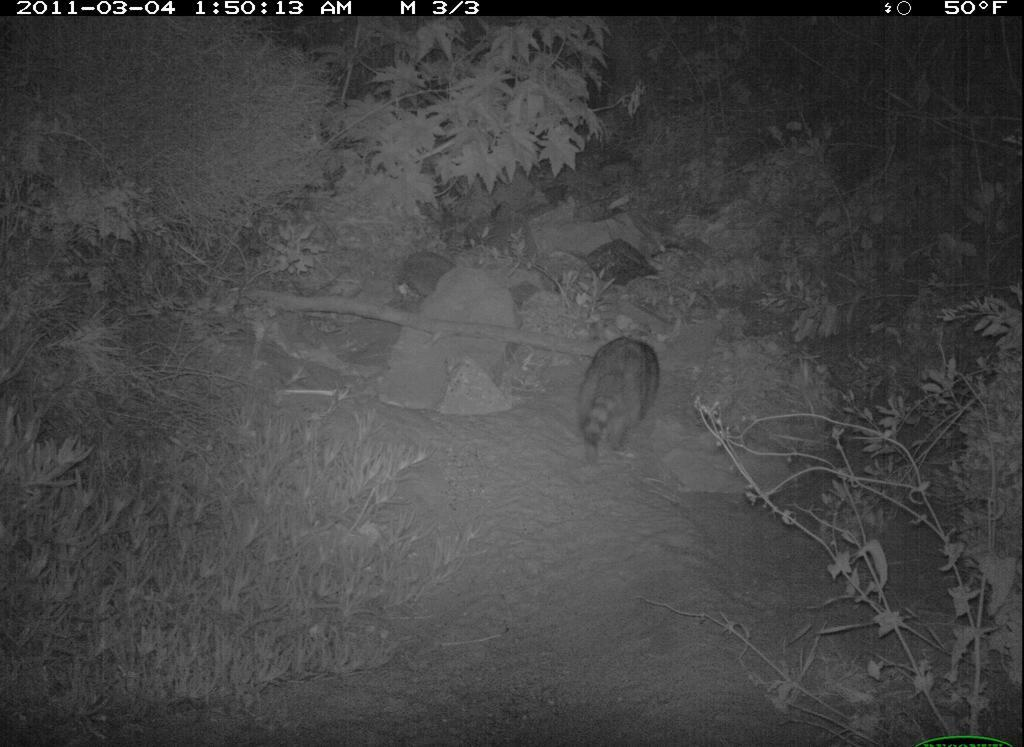raccoon: (568, 331, 673, 464)
